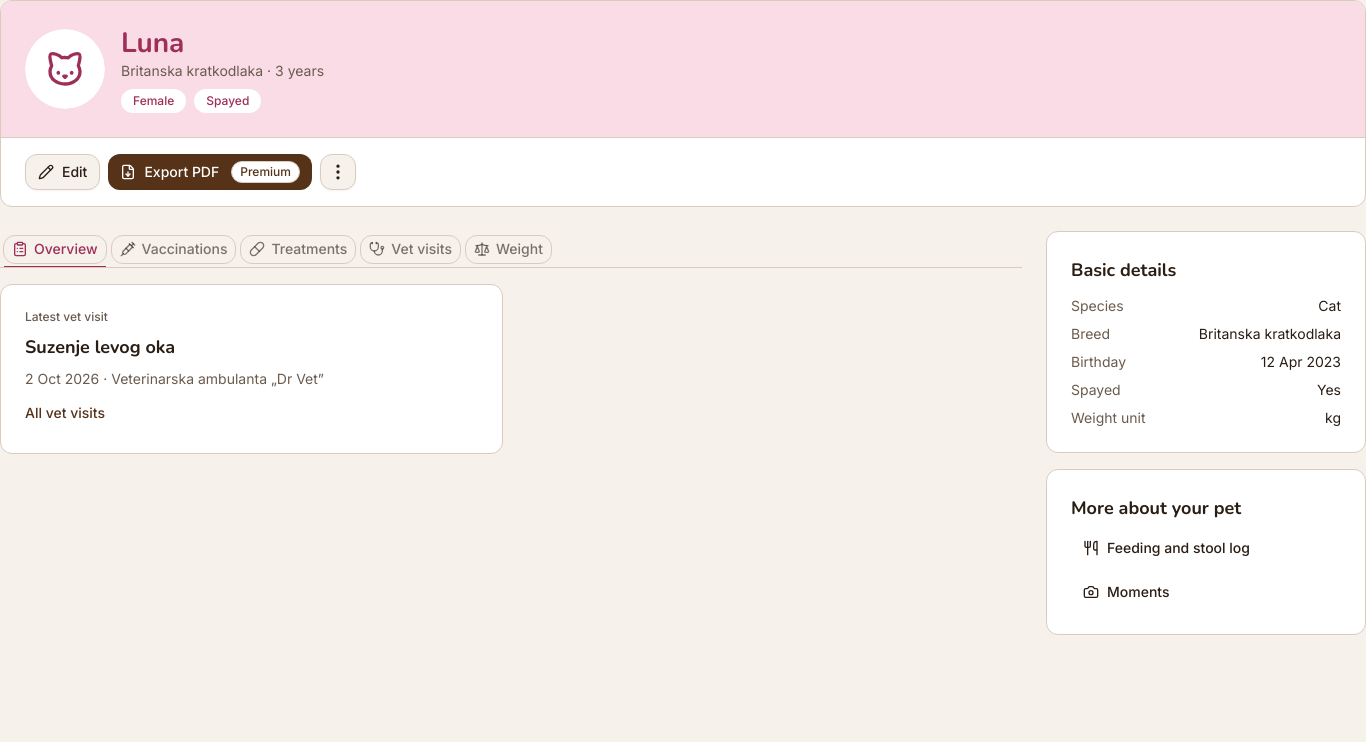
FR-06 — 'Doza data' logs the dose with time and user (EP-11) › English: translated frequency, period and next dose
Click the tab "Treatments".
click(298, 249)  # box [240,234,356,264]
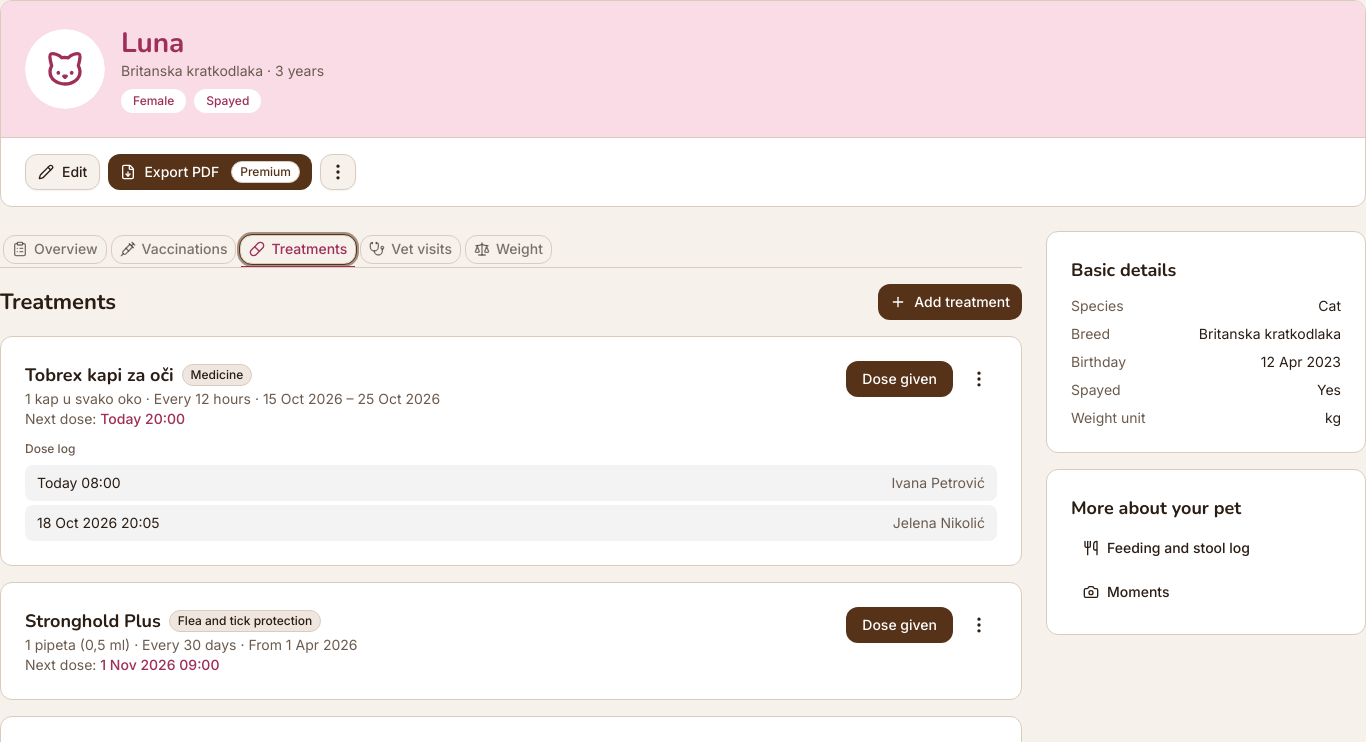
Expected: the text "1 kap u svako oko · Every 12 hours · 15 Oct 2026 – 25 Oct 2026" is shown, [25,390,440,407]
Expected: the text "Today 20:00" is shown, [100,410,185,427]
Expected: the button "Dose given" in the row of "Medicine" is shown, [846,361,953,397]
